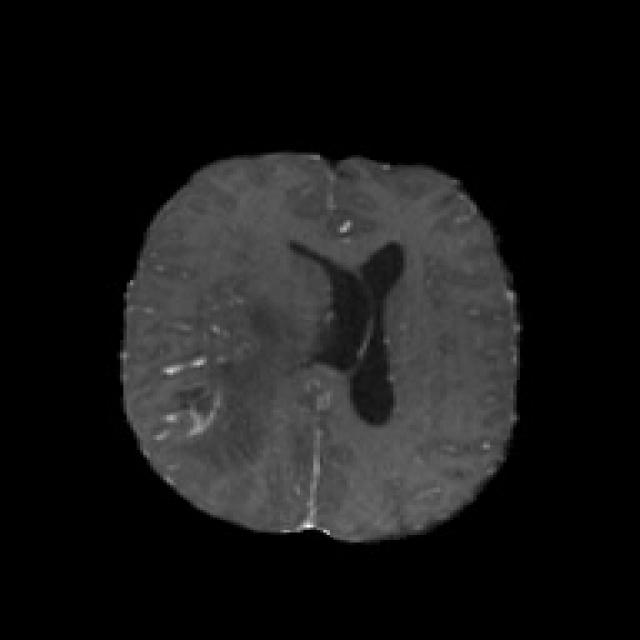negative: (170, 384, 227, 436)
